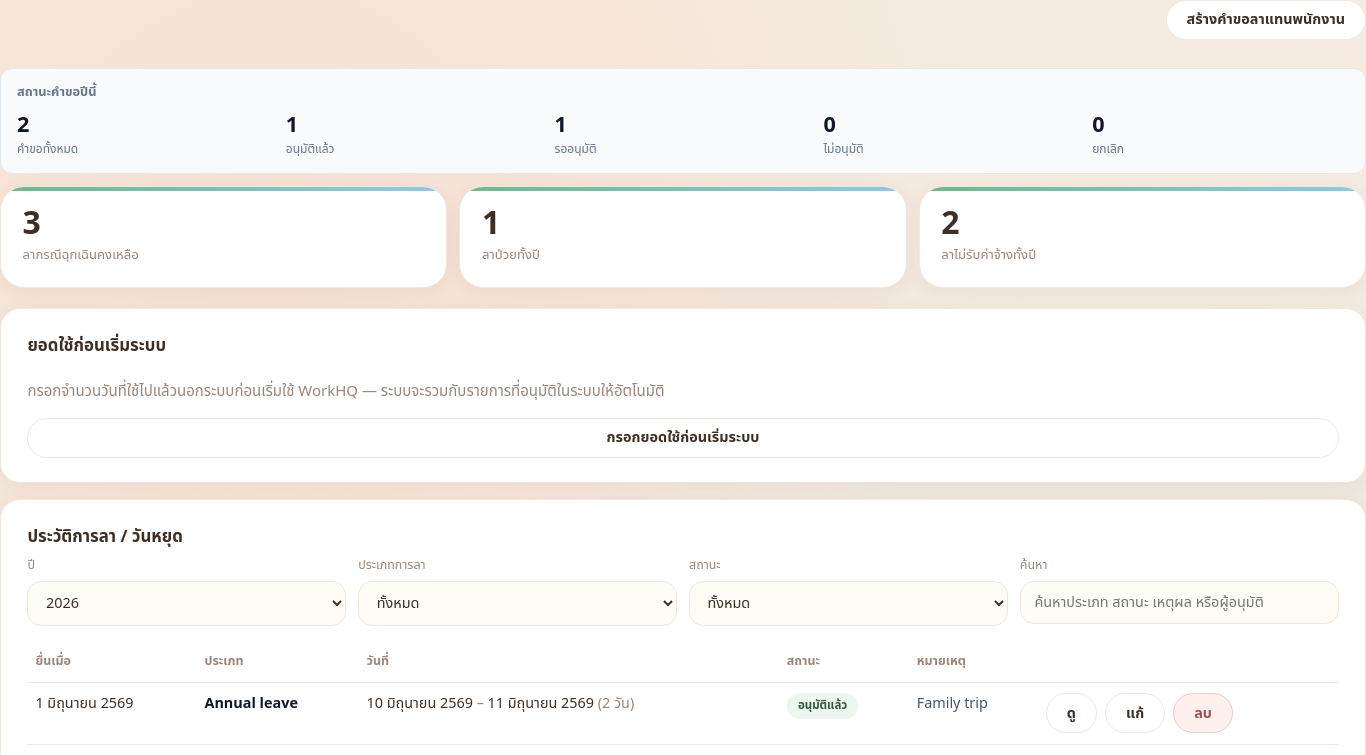
Test case: EmployeeLeaveTab › filters history by status
Expected: the row with test id "leave-row-lr-1" is shown, [27, 682, 1339, 744]
Step 1. Select "รออนุมัติ" in the dropdown with test id "leave-filter-status" → (848, 604), box [689, 581, 1008, 626]
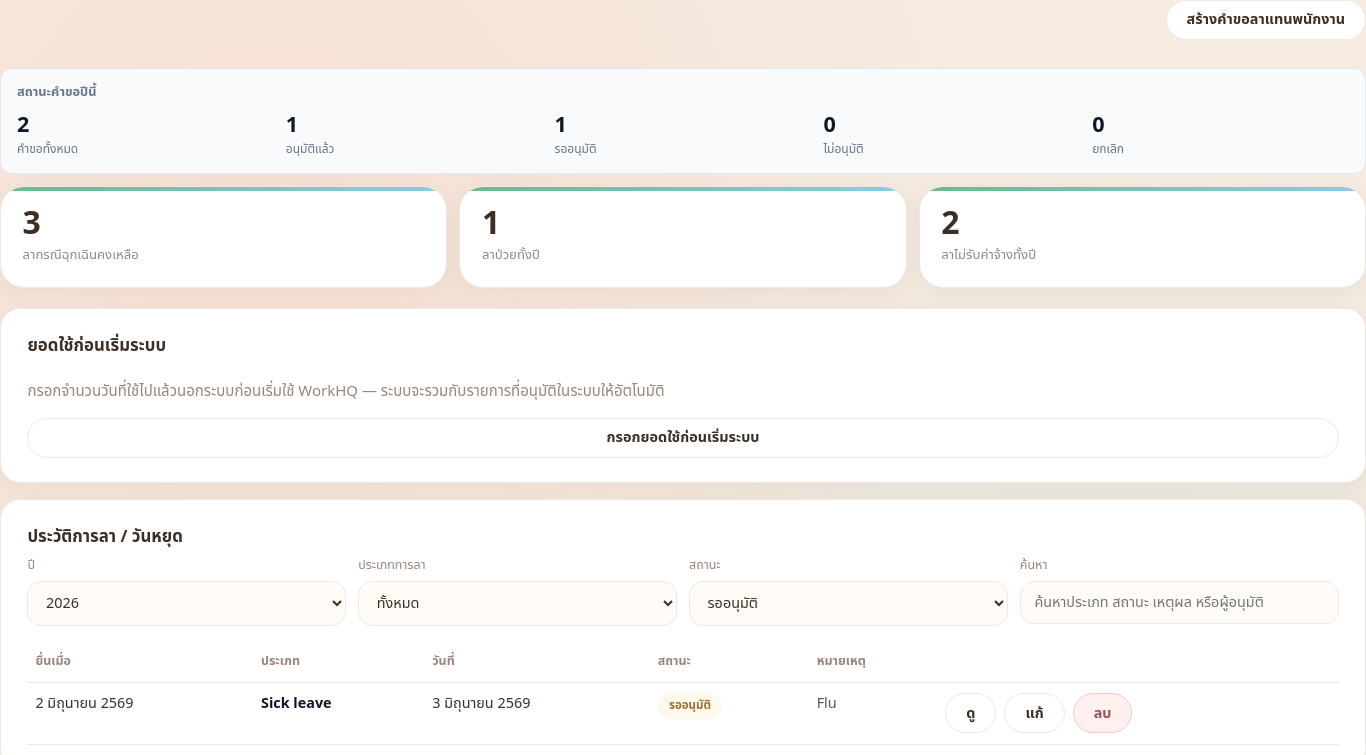
Expected: the row with test id "leave-row-lr-2" is shown, [27, 682, 1339, 744]
Expected: the row with test id "leave-row-lr-1" is gone
